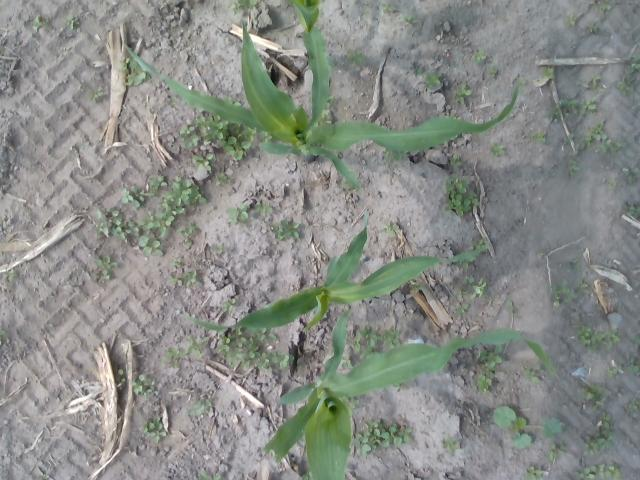Maize: (122, 20, 520, 190), (264, 308, 556, 480), (182, 210, 486, 332), (286, 0, 330, 138)
Weeds: (94, 172, 208, 258), (567, 119, 628, 179), (216, 331, 296, 370), (492, 406, 564, 448), (180, 115, 228, 171), (352, 419, 412, 458), (444, 172, 482, 216), (161, 334, 210, 368), (454, 275, 488, 320), (584, 411, 614, 458), (576, 324, 622, 349), (224, 128, 256, 162), (348, 326, 380, 358), (116, 56, 148, 87), (572, 463, 622, 480), (560, 97, 598, 119), (581, 380, 607, 412), (138, 416, 168, 442), (476, 346, 508, 370), (268, 217, 300, 240), (552, 280, 576, 310), (92, 255, 116, 283), (130, 373, 156, 398), (576, 74, 606, 95), (186, 396, 212, 418), (227, 202, 250, 226), (168, 270, 198, 288), (614, 76, 636, 98), (477, 371, 498, 394), (84, 83, 106, 104), (560, 257, 584, 276), (31, 14, 53, 34), (548, 441, 568, 463), (231, 0, 259, 15), (423, 70, 442, 92), (379, 221, 402, 238), (256, 199, 276, 218), (524, 362, 542, 383), (623, 394, 640, 416), (442, 436, 462, 454), (382, 330, 402, 348), (382, 150, 408, 163), (524, 466, 548, 480), (602, 363, 624, 378), (346, 48, 364, 66), (622, 202, 640, 220), (624, 54, 640, 74), (457, 83, 472, 104), (626, 353, 640, 375), (544, 106, 561, 124), (624, 168, 640, 187), (400, 13, 420, 28), (66, 16, 82, 33), (216, 172, 232, 188), (471, 238, 489, 252), (392, 382, 413, 394), (531, 131, 550, 144), (473, 48, 488, 64), (198, 470, 222, 480), (588, 20, 602, 36), (491, 142, 505, 158), (579, 280, 590, 299), (222, 299, 238, 312), (539, 68, 556, 80), (212, 242, 228, 254), (115, 369, 126, 386), (413, 66, 426, 80), (341, 356, 353, 371), (322, 108, 332, 125), (601, 0, 614, 13), (408, 281, 421, 294), (338, 180, 352, 192), (382, 3, 396, 15), (565, 12, 576, 27), (448, 155, 461, 167), (608, 177, 619, 191), (562, 132, 573, 145), (487, 67, 497, 81), (346, 398, 360, 408), (166, 96, 178, 107), (506, 300, 516, 313), (172, 258, 182, 268), (461, 260, 472, 269), (519, 78, 528, 86), (5, 270, 14, 278), (536, 253, 546, 260), (0, 330, 6, 339), (589, 0, 598, 5)
